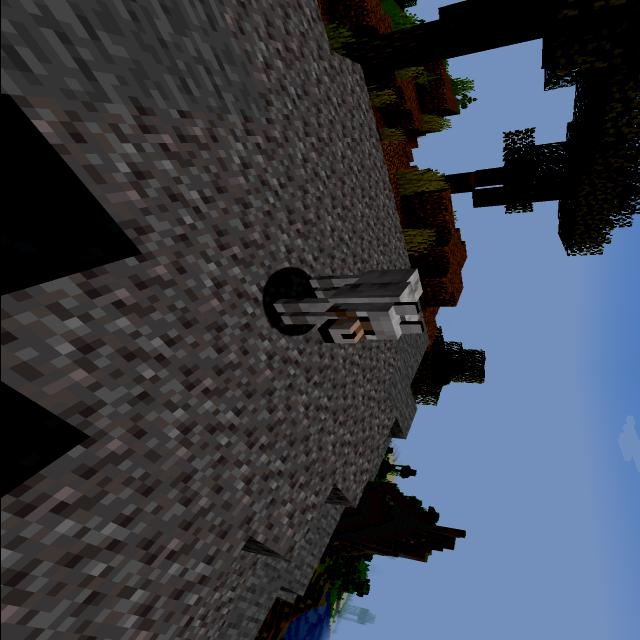Wolf: (262, 263, 436, 349)
